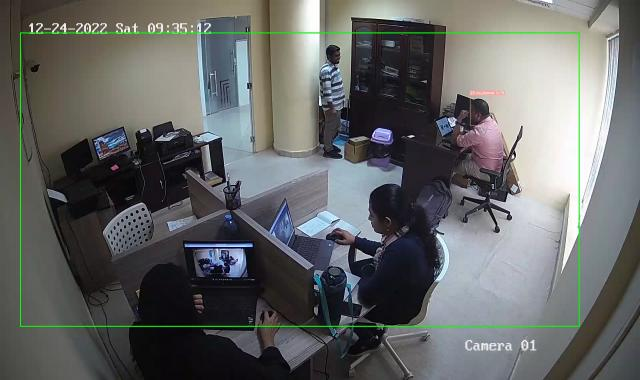no_hairnet: (140, 262, 195, 318), (367, 184, 409, 230), (468, 99, 488, 125), (325, 43, 342, 67)
